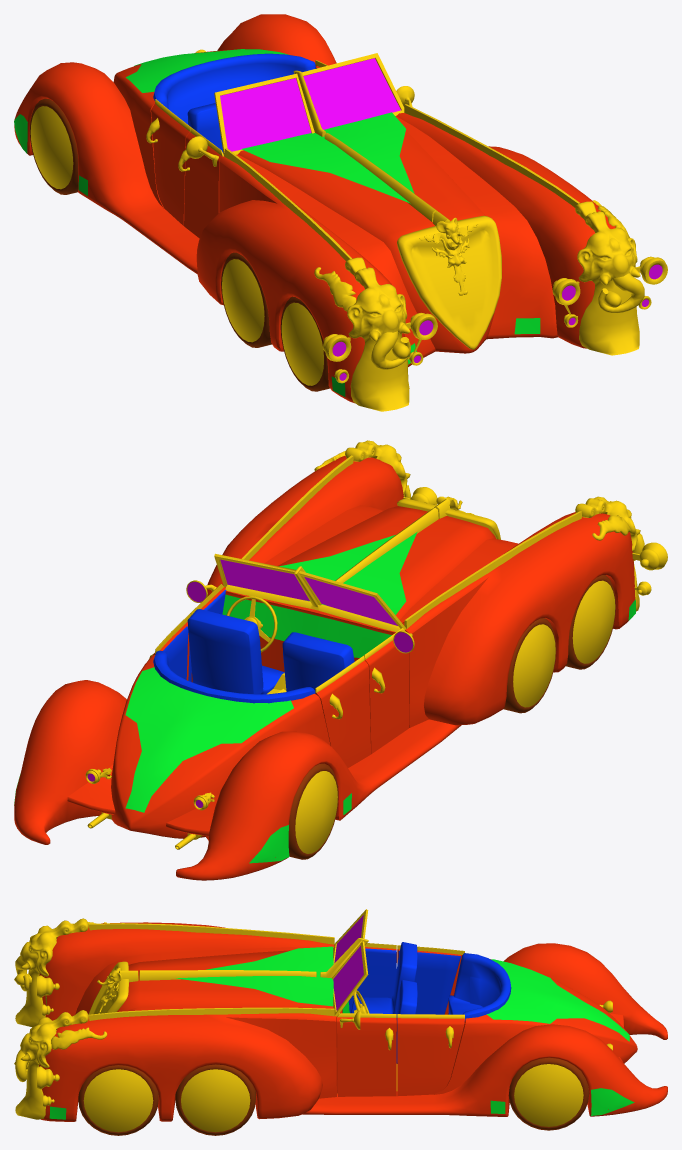
Rendered from huangjinpaoche.fbx.
3 renders of one model, top to bottom at view 1: azimuth 30°, elevation 25°; view 2: azimuth 150°, elevation 25°; view 3: azimuth 270°, elevation 25°, orthographic. The views are drawn at different scales.
Visible parts, largest first — view 1: huanjinpaoche_qi, huangjinpaoche_jinshu_1, huangjinpaoche_boli, huangjinpaoche_jinshu_2, huangjinpaoche_pige, huangjinpaoche_chetai; view 2: huanjinpaoche_qi, huangjinpaoche_jinshu_1, huangjinpaoche_jinshu_2, huangjinpaoche_pige, huangjinpaoche_boli, huangjinpaoche_chetai; view 3: huanjinpaoche_qi, huangjinpaoche_jinshu_1, huangjinpaoche_jinshu_2, huangjinpaoche_pige, huangjinpaoche_chetai, huangjinpaoche_boli.
Boxes of the visible parts, x1,y1,x2,y2 form: huanjinpaoche_qi: (14,14,615,403); huangjinpaoche_jinshu_1: (30,49,667,411); huangjinpaoche_boli: (220,58,662,380); huangjinpaoche_jinshu_2: (14,49,540,396); huangjinpaoche_pige: (153,53,316,152); huangjinpaoche_chetai: (29,98,329,391); huanjinpaoche_qi: (14,456,635,880); huangjinpaoche_jinshu_1: (85,440,667,853); huangjinpaoche_jinshu_2: (14,532,635,863); huangjinpaoche_pige: (153,589,354,703); huangjinpaoche_boli: (87,559,412,807); huangjinpaoche_chetai: (288,575,616,859); huanjinpaoche_qi: (39,922,667,1121); huangjinpaoche_jinshu_1: (14,909,612,1132); huangjinpaoche_jinshu_2: (49,946,634,1119); huangjinpaoche_pige: (348,942,511,1063); huangjinpaoche_chetai: (78,1057,589,1135); huangjinpaoche_boli: (333,915,363,1010).
Bounding box in the file's own units: 227 × 110 × 462.
